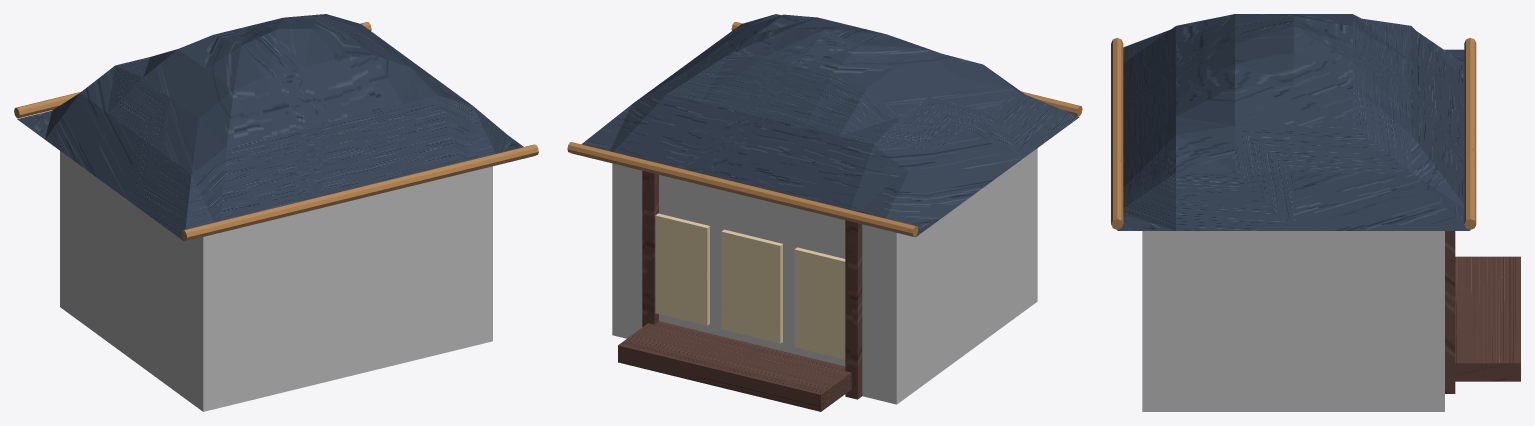
File: shogun_market_shop.obj
3 views of the same model, side by side, from view 1: azimuth 30°, elevation 25°; view 2: azimuth 150°, elevation 25°; view 3: azimuth 270°, elevation 25° (orthographic). The views are drawn at different scales.
Visible parts, largest first — view 1: geometry_0, geometry_1, geometry_3, geometry_2; view 2: geometry_1, geometry_0, geometry_9, geometry_7, geometry_8, geometry_6, geometry_2, geometry_4, geometry_5, geometry_3; view 3: geometry_1, geometry_0, geometry_9, geometry_2, geometry_3, geometry_5.
Part boxes in pixels (box(x1,y1,x2,y2)): geometry_0: box(60, 151, 492, 411); geometry_1: box(17, 14, 535, 241); geometry_3: box(181, 144, 538, 240); geometry_2: box(14, 22, 371, 118); geometry_1: box(570, 14, 1079, 237); geometry_0: box(612, 148, 1037, 404); geometry_9: box(618, 321, 851, 411); geometry_7: box(721, 229, 782, 343); geometry_8: box(655, 213, 709, 325); geometry_6: box(794, 247, 845, 359); geometry_2: box(567, 142, 918, 236); geometry_4: box(845, 220, 862, 399); geometry_5: box(642, 171, 658, 326); geometry_3: box(731, 22, 1082, 116); geometry_1: box(1117, 14, 1470, 230); geometry_0: box(1142, 231, 1444, 411); geometry_9: box(1455, 256, 1520, 381); geometry_2: box(1464, 38, 1476, 229); geometry_3: box(1111, 38, 1123, 229); geometry_5: box(1445, 231, 1455, 393).
Bounding box in the file's own units: 8.5 × 6.8 × 8.12.
